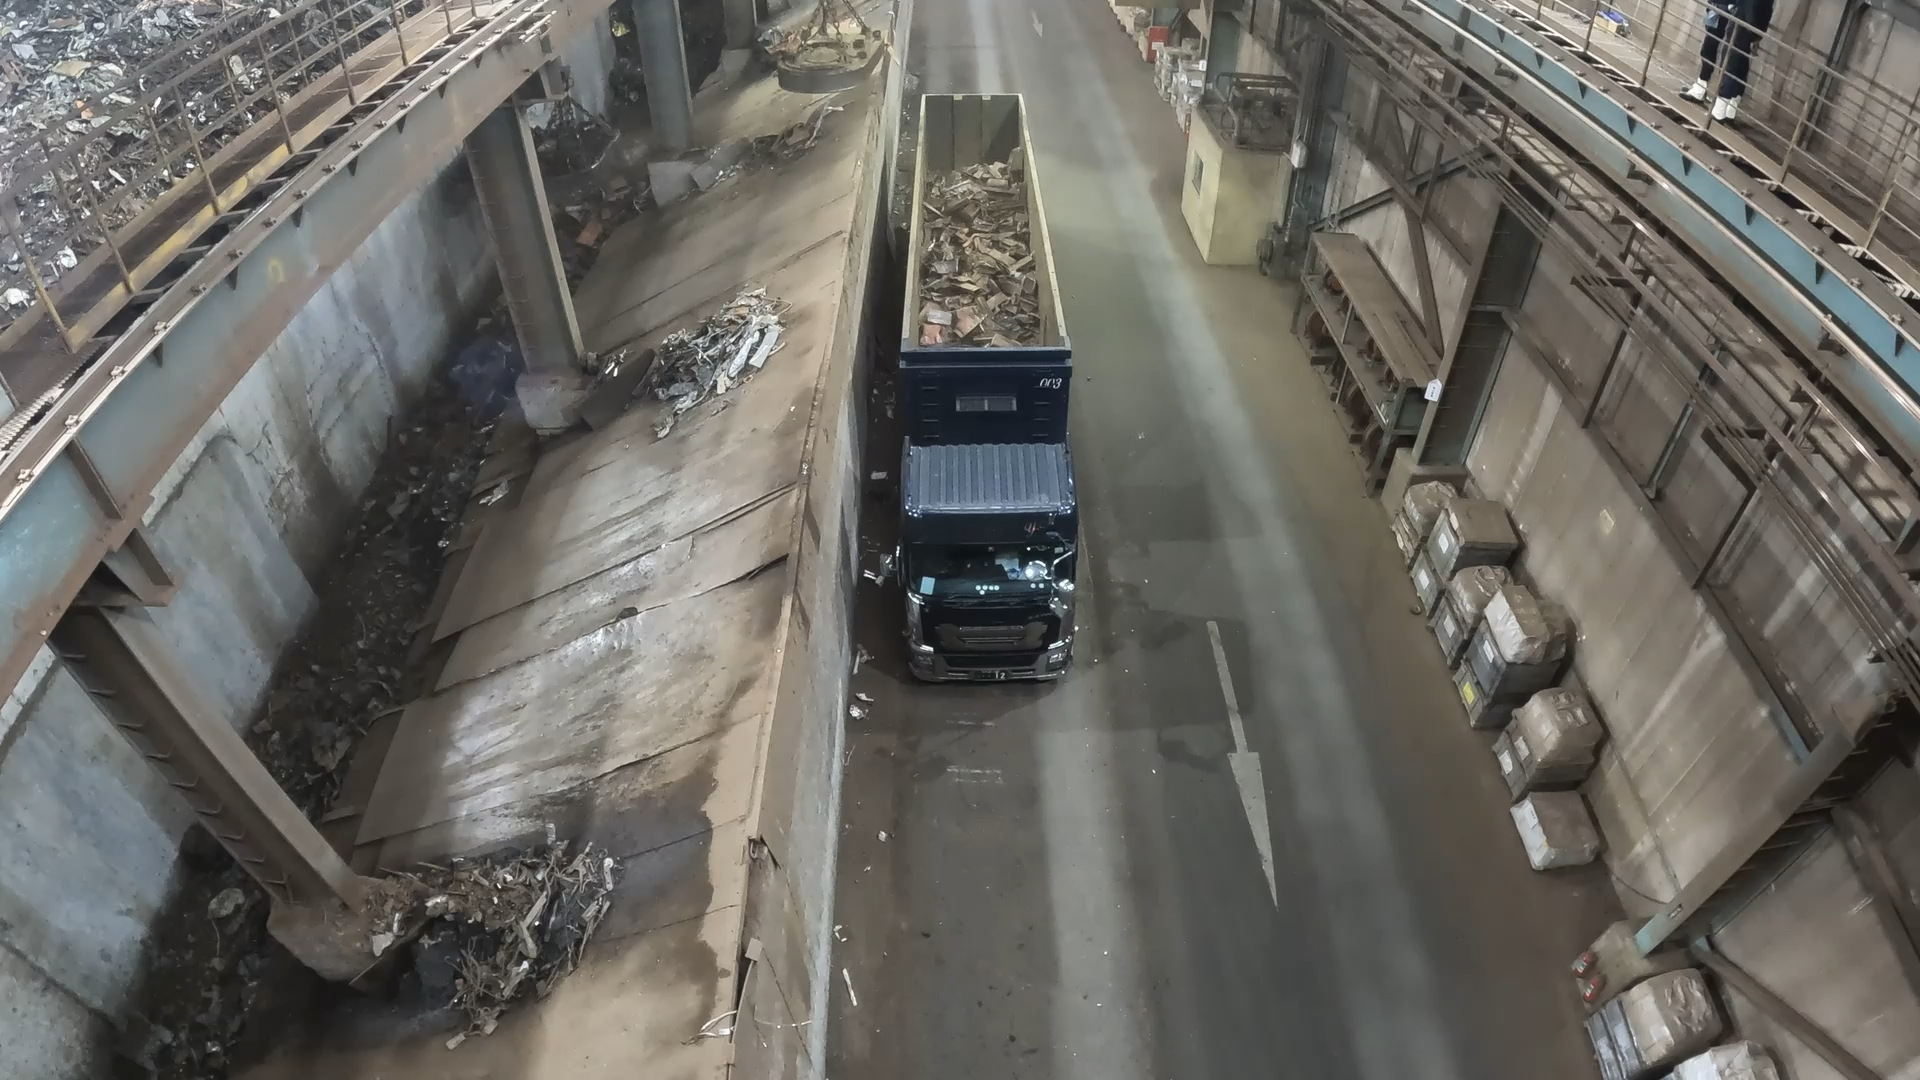truck: (905, 92, 1068, 349)
